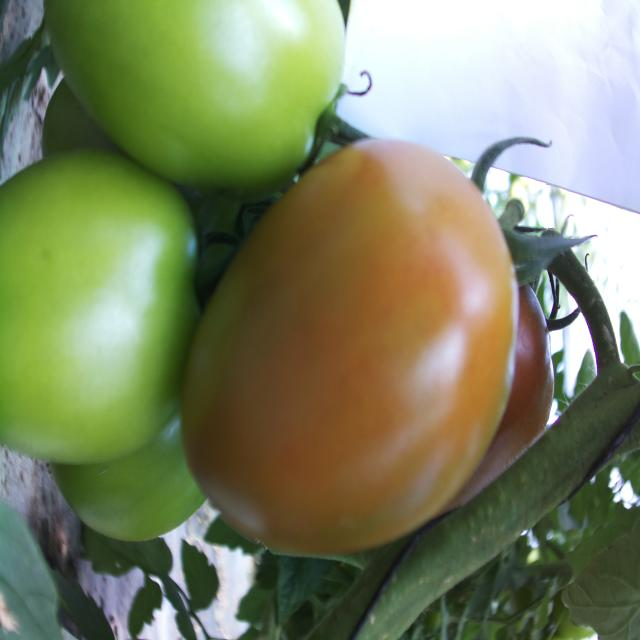sari: (168, 122, 536, 558)
